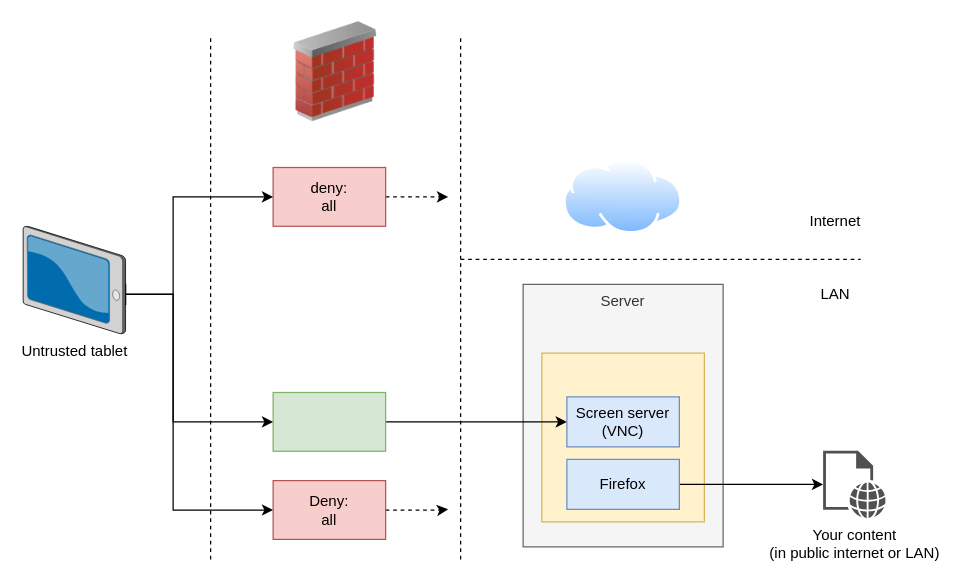
This 961x584 diagram has some shape labels left out. Here are the shapes that lost their labels. From the top down, the box of each, then its label:
(285, 21, 385, 121): Firewall
(272, 391, 386, 451): Accept: VNC
(541, 352, 704, 522): Docker container
